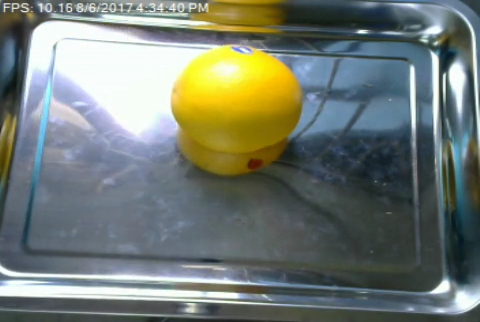Orange: (170, 43, 302, 151)
